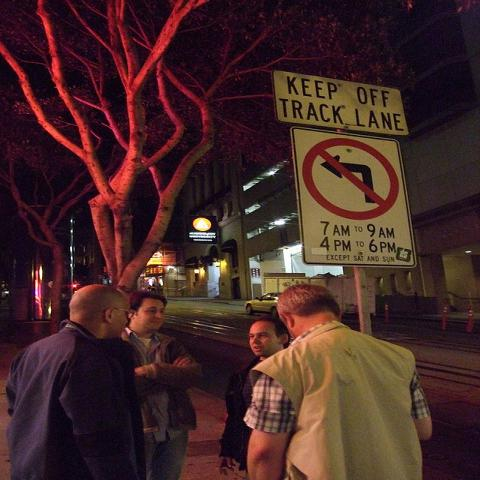car: (245, 292, 281, 315)
